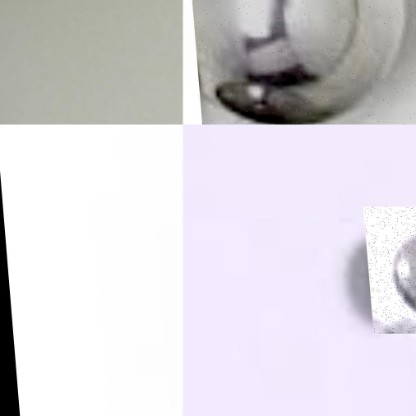ironball: (182, 0, 415, 124), (392, 229, 416, 319)
